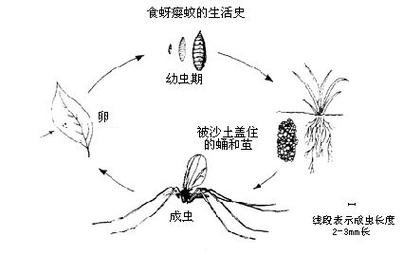Cecidomyiidae: (91, 154, 289, 241)
